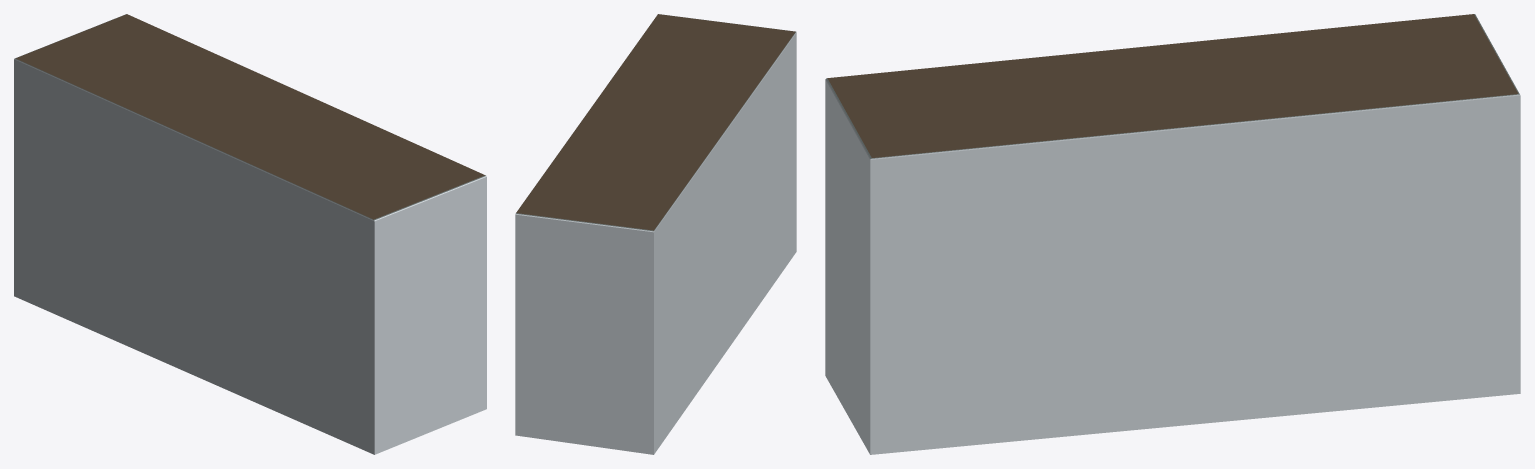
File: fragments.glb
3 views of the same model, side by side, from view 1: azimuth 30°, elevation 25°; view 2: azimuth 150°, elevation 25°; view 3: azimuth 270°, elevation 25° (orthographic). The views are drawn at different scales.
Parts seen in each view (by area): view 1: SM_osm-577759119_Fragment_045, SM_osm-577759119_Fragment_002, SM_osm-577759119_Fragment_010, SM_osm-577759119_Fragment_008, SM_osm-577759119_Fragment_024, SM_osm-577759119_Fragment_005, SM_osm-577759119_Fragment_054, SM_osm-577759119_Fragment_029, SM_osm-577759119_Fragment_040, SM_osm-577759119_Fragment_022, SM_osm-577759119_Fragment_004, SM_osm-577759119_Fragment_019 (+28 smaller); view 2: SM_osm-577759119_Fragment_002, SM_osm-577759119_Fragment_047, SM_osm-577759119_Fragment_019, SM_osm-577759119_Fragment_051, SM_osm-577759119_Fragment_022, SM_osm-577759119_Fragment_054, SM_osm-577759119_Fragment_021, SM_osm-577759119_Fragment_005, SM_osm-577759119_Fragment_006, SM_osm-577759119_Fragment_035, SM_osm-577759119_Fragment_048, SM_osm-577759119_Fragment_024 (+28 smaller); view 3: SM_osm-577759119_Fragment_004, SM_osm-577759119_Fragment_025, SM_osm-577759119_Fragment_011, SM_osm-577759119_Fragment_017, SM_osm-577759119_Fragment_013, SM_osm-577759119_Fragment_034, SM_osm-577759119_Fragment_003, SM_osm-577759119_Fragment_046, SM_osm-577759119_Fragment_036, SM_osm-577759119_Fragment_044, SM_osm-577759119_Fragment_053, SM_osm-577759119_Fragment_015 (+26 smaller).
Boxes of the visible parts, <box> form: SM_osm-577759119_Fragment_045: <box>335,185,441,275</box>; SM_osm-577759119_Fragment_002: <box>14,44,112,141</box>; SM_osm-577759119_Fragment_010: <box>320,232,431,349</box>; SM_osm-577759119_Fragment_008: <box>67,228,154,352</box>; SM_osm-577759119_Fragment_024: <box>124,107,213,220</box>; SM_osm-577759119_Fragment_005: <box>205,135,322,229</box>; SM_osm-577759119_Fragment_054: <box>14,129,82,242</box>; SM_osm-577759119_Fragment_029: <box>68,100,137,233</box>; SM_osm-577759119_Fragment_040: <box>373,292,457,394</box>; SM_osm-577759119_Fragment_022: <box>279,151,387,239</box>; SM_osm-577759119_Fragment_004: <box>384,148,486,254</box>; SM_osm-577759119_Fragment_019: <box>14,222,95,331</box>; SM_osm-577759119_Fragment_002: <box>594,182,688,300</box>; SM_osm-577759119_Fragment_047: <box>554,258,637,351</box>; SM_osm-577759119_Fragment_019: <box>597,353,686,454</box>; SM_osm-577759119_Fragment_051: <box>535,183,634,258</box>; SM_osm-577759119_Fragment_022: <box>679,43,781,125</box>; SM_osm-577759119_Fragment_054: <box>627,257,680,384</box>; SM_osm-577759119_Fragment_021: <box>550,337,641,403</box>; SM_osm-577759119_Fragment_005: <box>666,81,759,165</box>; SM_osm-577759119_Fragment_006: <box>515,385,597,446</box>; SM_osm-577759119_Fragment_035: <box>515,248,556,342</box>; SM_osm-577759119_Fragment_048: <box>626,114,729,159</box>; SM_osm-577759119_Fragment_024: <box>685,134,732,237</box>; SM_osm-577759119_Fragment_004: <box>851,106,984,237</box>; SM_osm-577759119_Fragment_025: <box>1158,209,1287,358</box>; SM_osm-577759119_Fragment_011: <box>856,287,999,425</box>; SM_osm-577759119_Fragment_017: <box>950,177,1097,292</box>; SM_osm-577759119_Fragment_013: <box>1023,335,1173,438</box>; SM_osm-577759119_Fragment_034: <box>1313,66,1418,188</box>; SM_osm-577759119_Fragment_003: <box>1320,183,1450,305</box>; SM_osm-577759119_Fragment_046: <box>1069,101,1179,230</box>; SM_osm-577759119_Fragment_036: <box>1050,230,1162,337</box>; SM_osm-577759119_Fragment_044: <box>1205,73,1321,187</box>; SM_osm-577759119_Fragment_053: <box>1242,163,1371,280</box>; SM_osm-577759119_Fragment_015: <box>1406,82,1520,189</box>.
Bounding box in the file's own units: 1.09 × 1.06 × 2.2.
